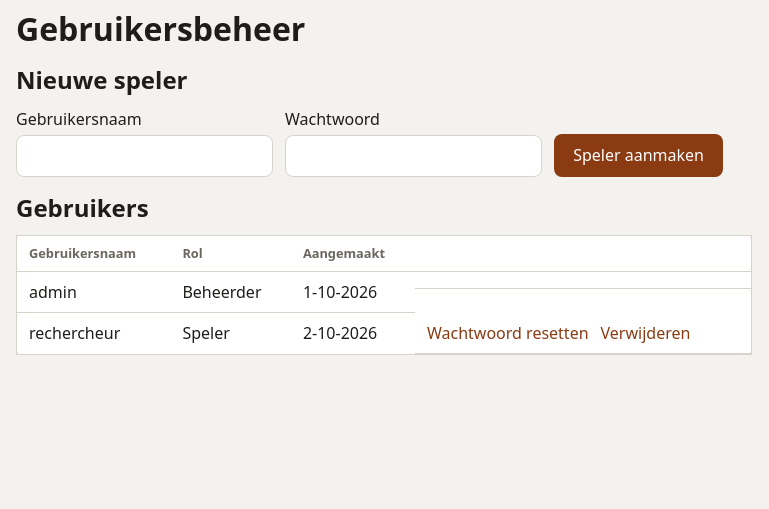
Scenario: UserAdminPage › UserAdminPage_givenPasswordReset_expectResetRequestSent
Expected: the cell "rechercheur" is shown, [16,313,170,354]
Click the button "Wachtwoord resetten": x=508, y=333 [427,321,589,345]
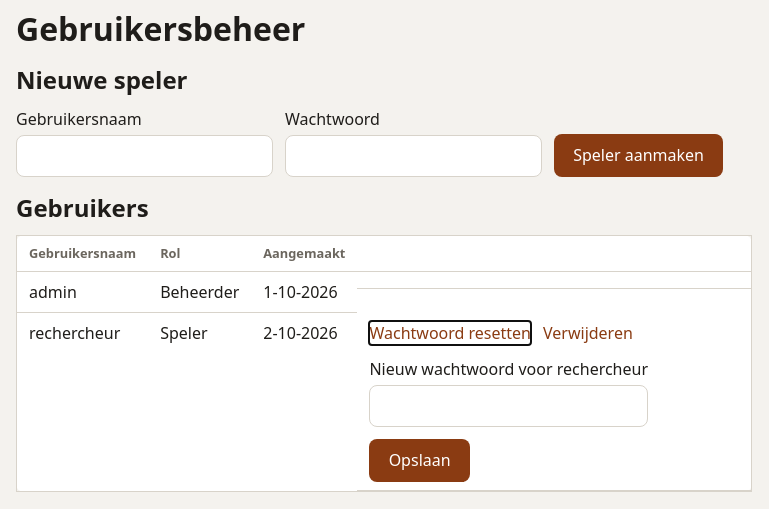
In the password field labelled "Nieuw wachtwoord voor rechercheur": x=509, y=406 [369,385,648,427], type "nieuw-wachtwoord"
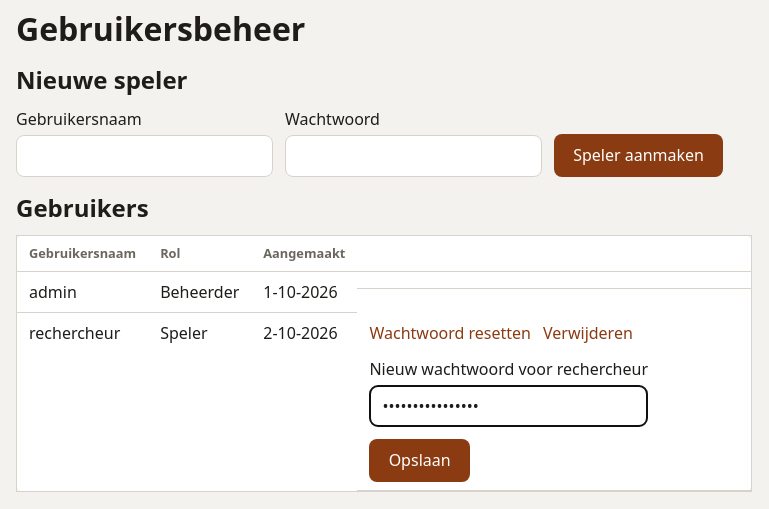
Click the button "Opslaan": x=420, y=460 [369,439,470,482]
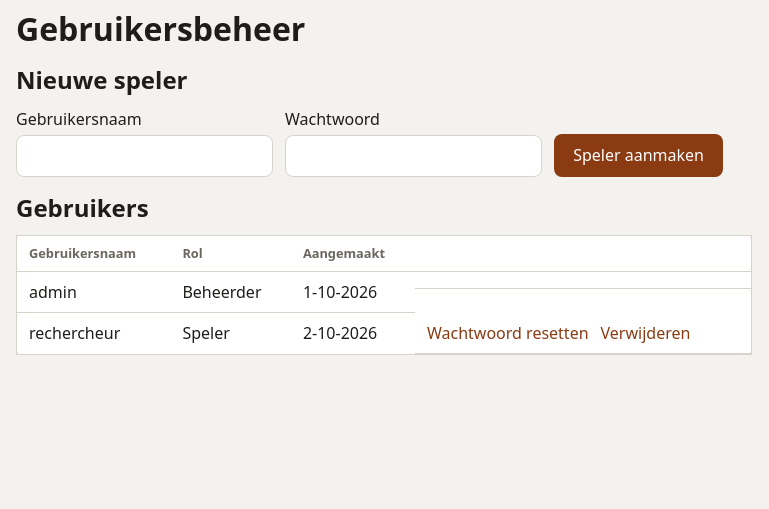
Now the label labelled "Nieuw wachtwoord voor rechercheur" is gone
